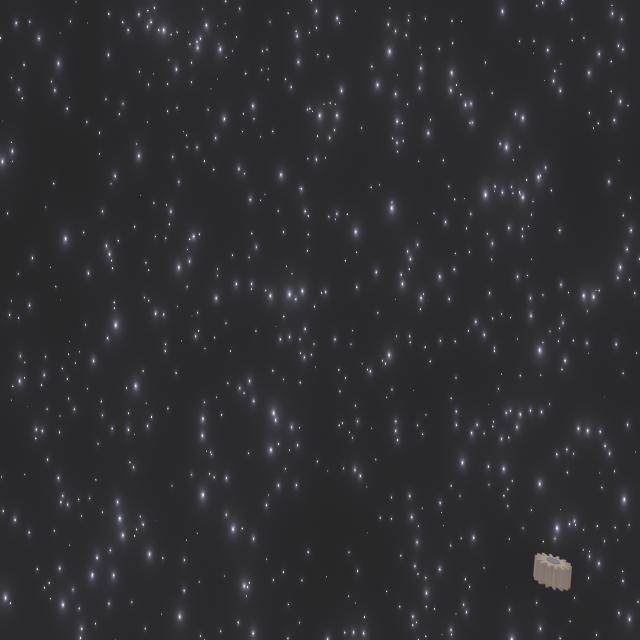large_debris: (531, 551, 573, 592)
